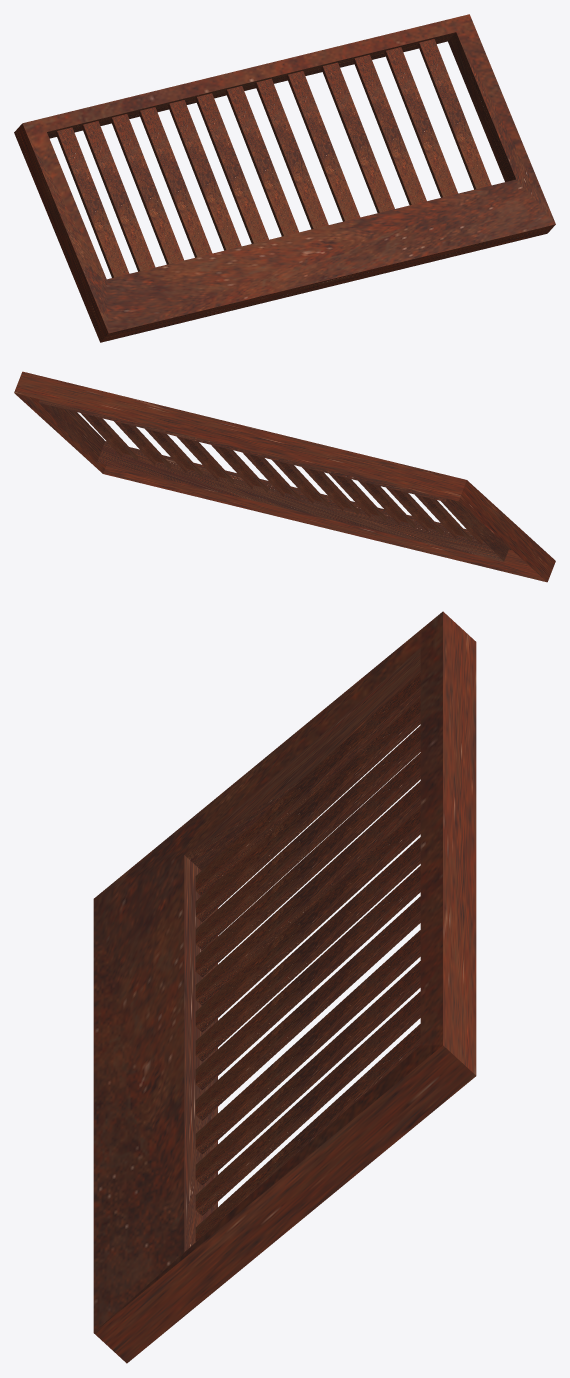
Rendered from armadura atras.glb.
3 renders of one model, top to bottom at view 1: azimuth 30°, elevation 25°; view 2: azimuth 150°, elevation 25°; view 3: azimuth 270°, elevation 25°, orthographic. The views are drawn at different scales.
Parts seen in each view (by area): view 1: Cube.002; view 2: Cube.002; view 3: Cube.002.
Part boxes in pixels (box(x1,y1,x2,y2)): Cube.002: box(14, 14, 555, 342); Cube.002: box(14, 371, 555, 582); Cube.002: box(93, 611, 476, 1363).
Size of the model in its own units: 2.94 by 1.01 by 1.09.
Materials: 1 (1 with a texture image).
